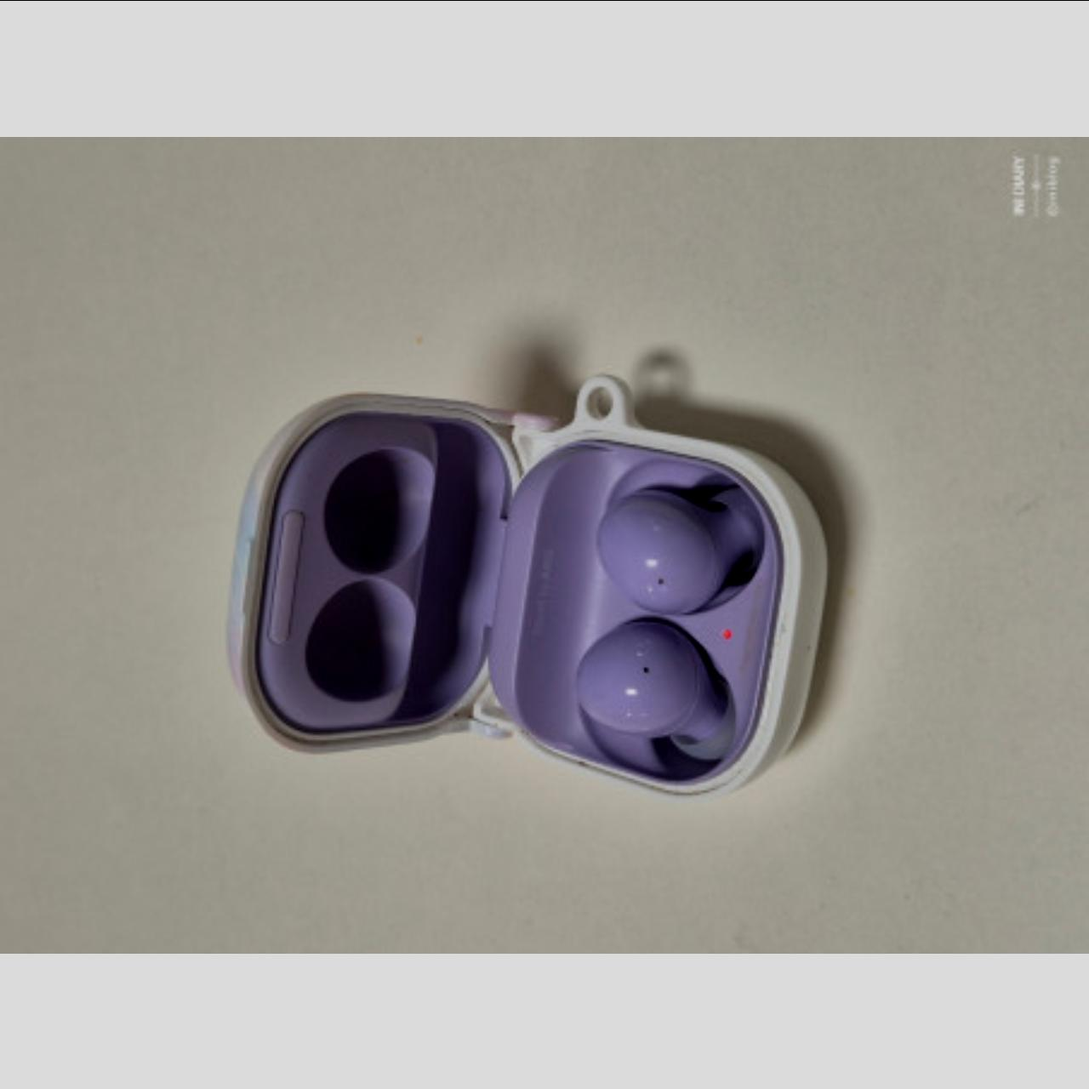Buds: (223, 360, 869, 812)
Buds_Units: (567, 611, 753, 773), (591, 462, 775, 620)
